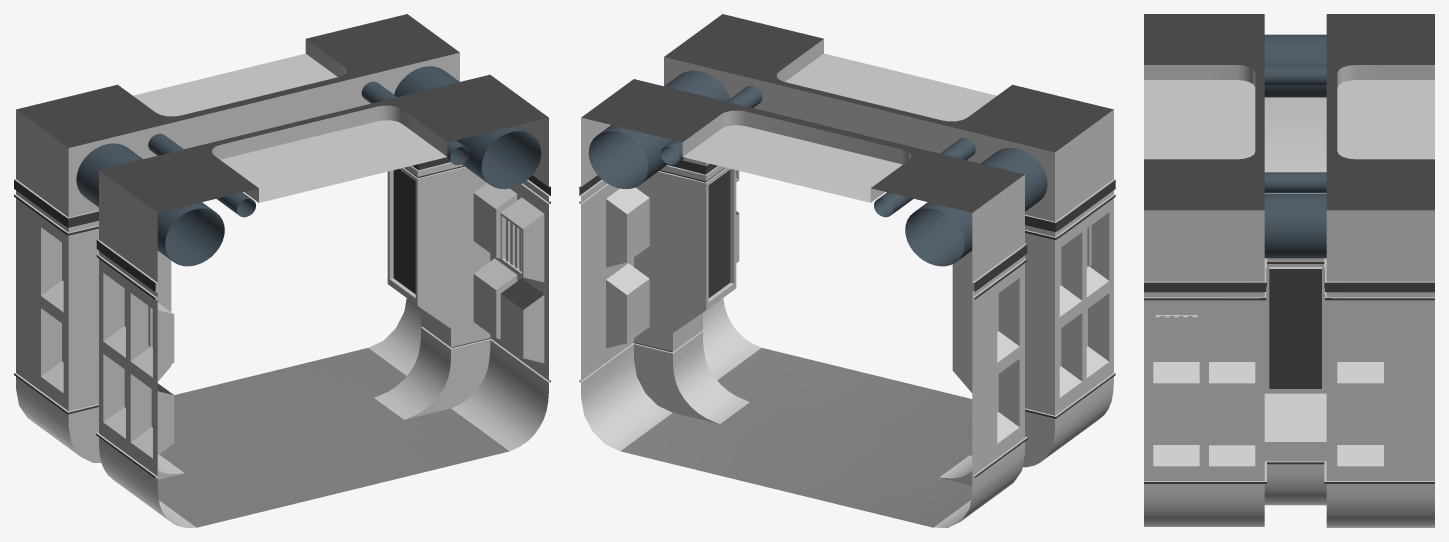
Rendered from corridor.fbx.
3 renders of one model, left to right at view 1: azimuth 30°, elevation 25°; view 2: azimuth 150°, elevation 25°; view 3: azimuth 270°, elevation 25°, orthographic. The views are drawn at different scales.
Parts seen in each view (by area): view 1: Cube.002; view 2: Cube.002; view 3: Cube.002.
Part boxes in pixels (x1,y1,x2,y2): Cube.002: [14, 14, 550, 527]; Cube.002: [579, 14, 1115, 527]; Cube.002: [1144, 14, 1434, 527].
Size of the model in its own units: 323 by 253 by 201.
